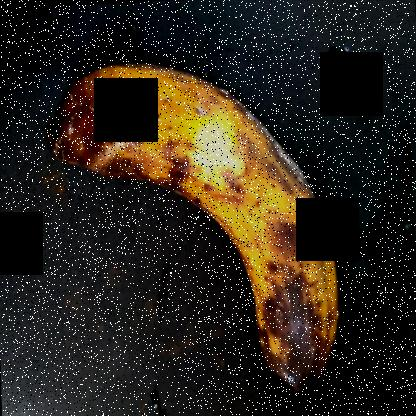rotten: (51, 48, 354, 396)
